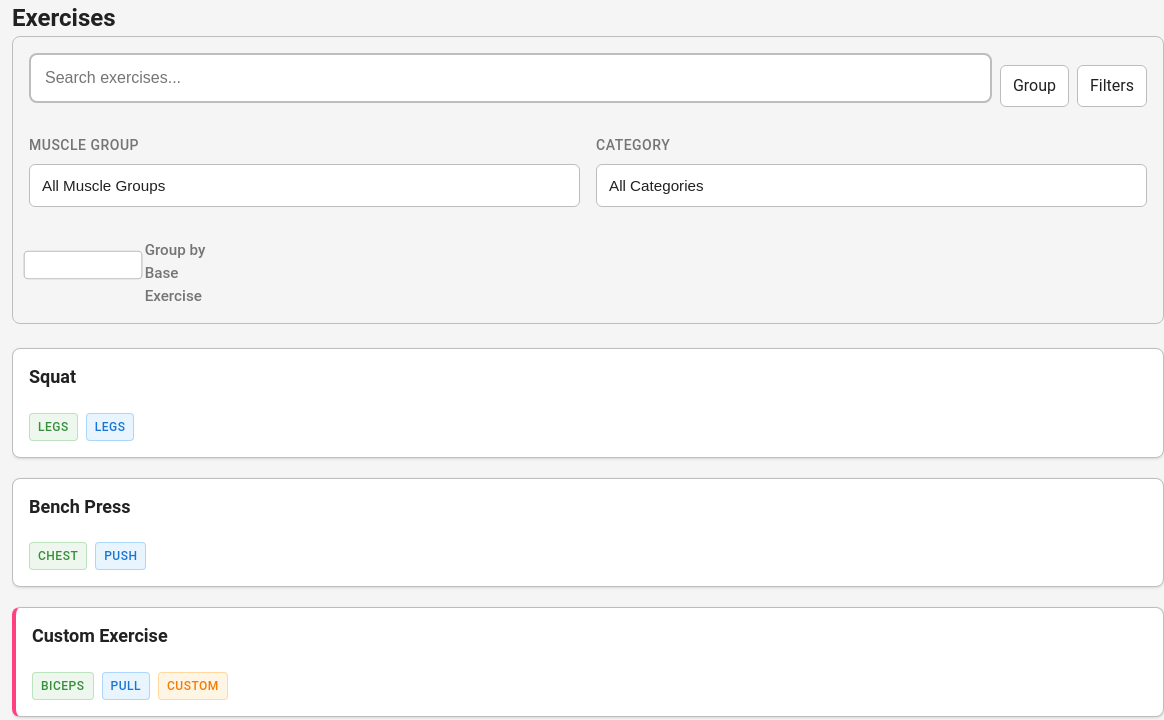
it: ExerciseList › filters exercises based on search input
In the field with placeholder "Search exercises...": coordinates (510, 78) left=29, top=53, right=992, bottom=103, type "bench"
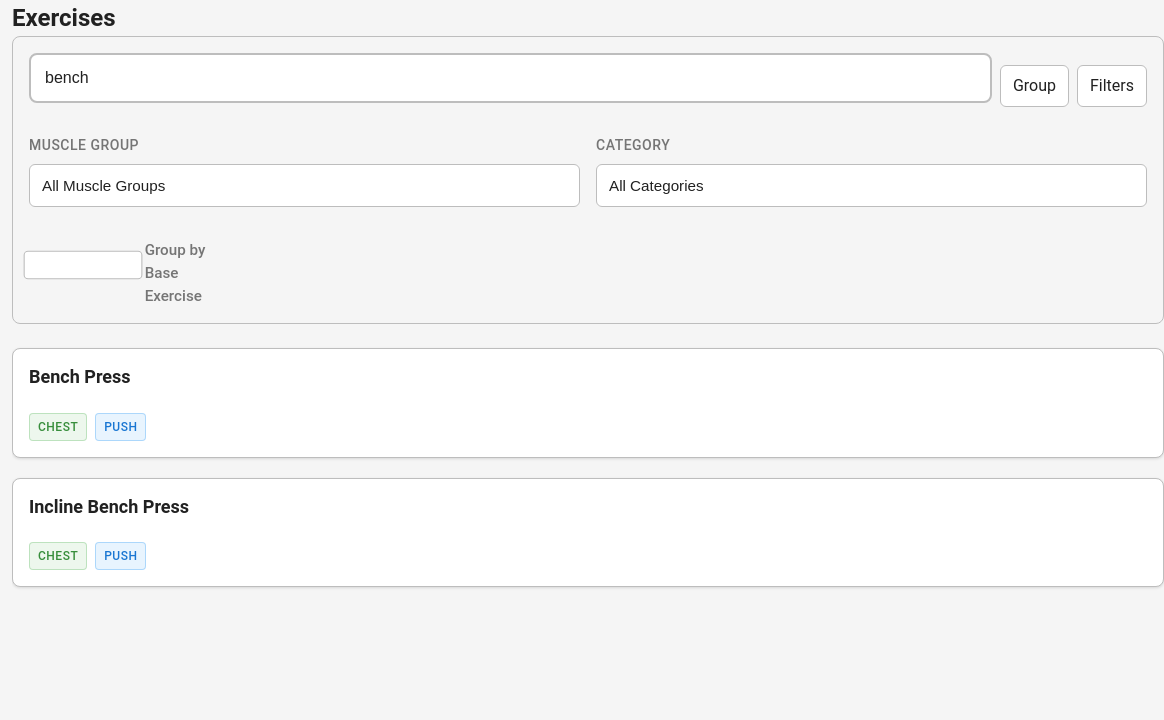
Check: the heading "Bench Press" is shown, box left=29, top=366, right=130, bottom=387
Check: the heading "Squat" is gone
Check: the heading "Custom Exercise" is gone
